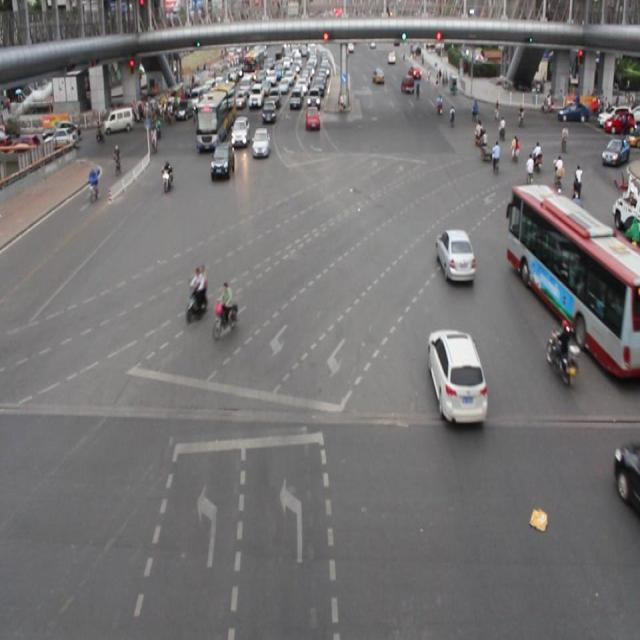car: (427, 330, 485, 426), (434, 228, 474, 283), (614, 441, 640, 515), (211, 143, 234, 182), (230, 116, 250, 149), (251, 126, 270, 157)
van: (510, 183, 640, 384), (195, 80, 234, 150)
